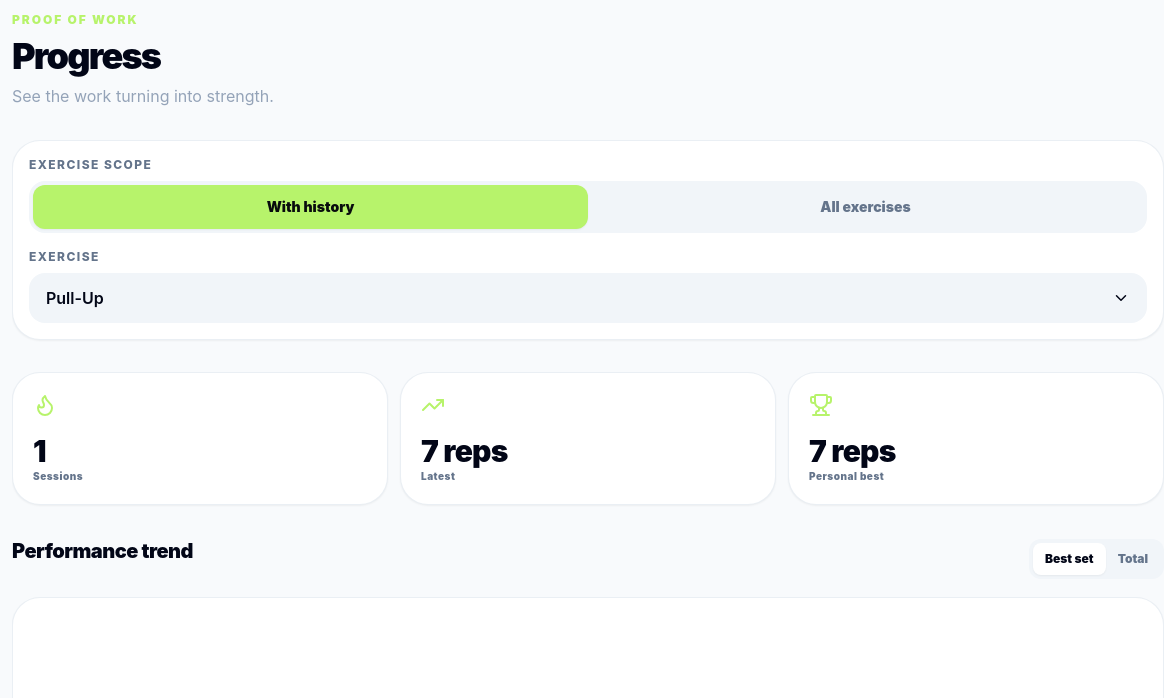
Progress exercise scope › reveals unperformed exercises in All exercises and shows their explicit empty state
The width and height of the screenshot is (1164, 698).
Click the button "All exercises".
click(866, 207)  # box left=588, top=185, right=1143, bottom=229
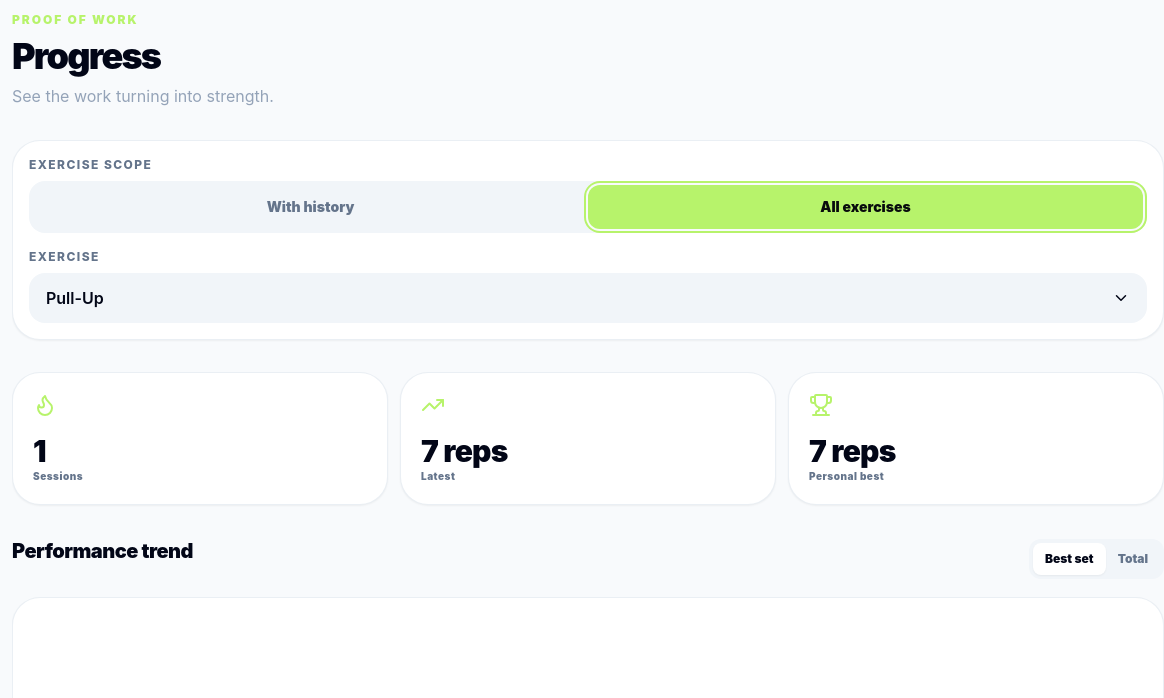
Click the dropdown named "Exercise".
click(75, 298)  # box left=29, top=273, right=1147, bottom=323
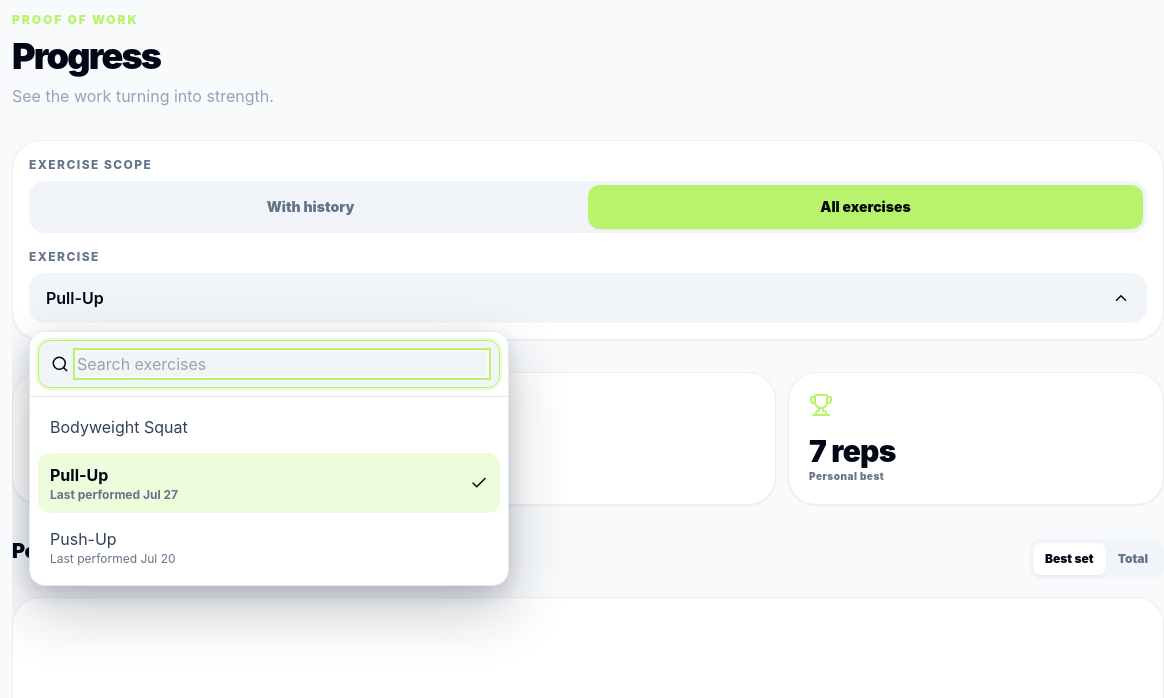
Click the option "Bodyweight Squat".
click(119, 427)  # box left=38, top=405, right=500, bottom=449
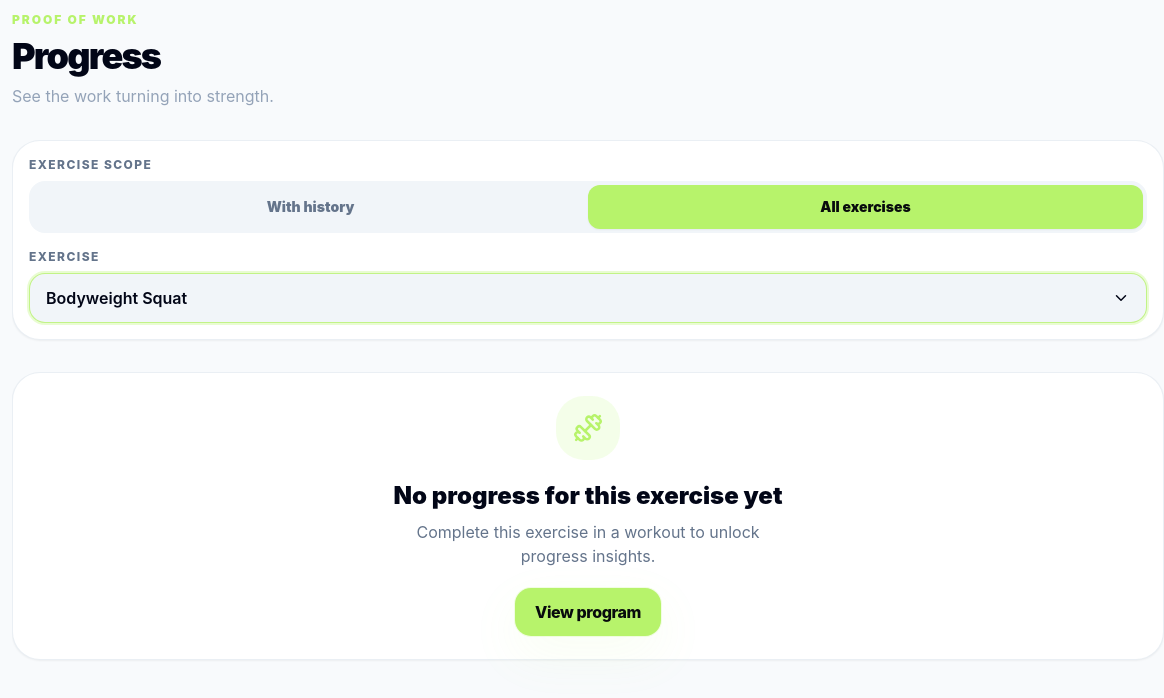
Expected: the heading "No progress for this exercise yet" is shown, left=394, top=480, right=782, bottom=512
